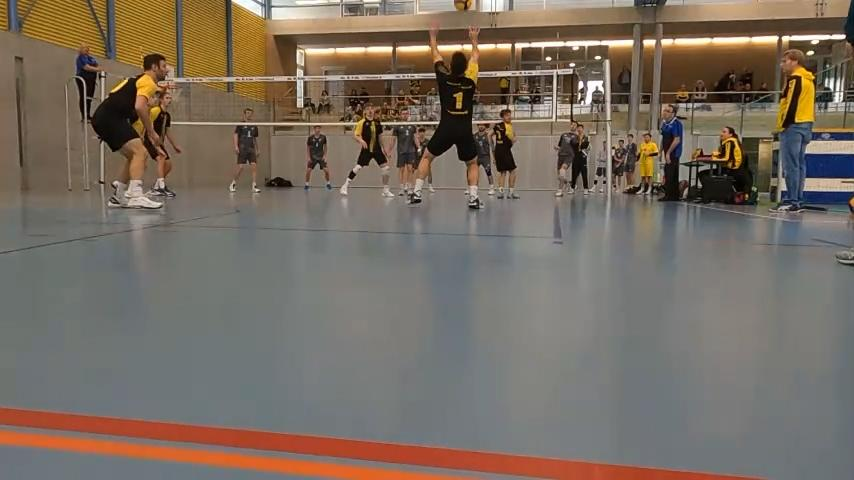Dig: (428, 19, 491, 193)
Player: (92, 53, 166, 208), (340, 105, 393, 196), (149, 91, 181, 197), (229, 108, 260, 192), (493, 109, 519, 198), (389, 125, 419, 195), (304, 125, 331, 189), (554, 121, 577, 196), (474, 123, 494, 194), (413, 127, 428, 171)
ball: (454, 0, 473, 12)
